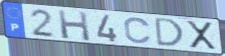2: (28, 8, 56, 38)
4: (96, 13, 119, 43)
C: (123, 16, 153, 45)
D: (154, 17, 186, 48)
H: (56, 9, 93, 43)
X: (184, 20, 218, 51)
